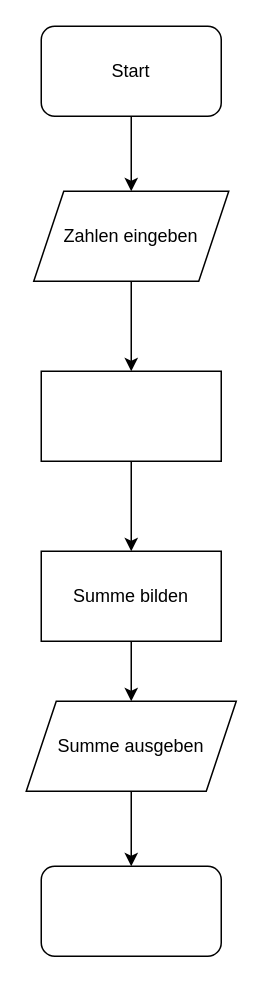
Image size: 263x983. Some labels were removed from this diagram. The centre of each missing label's shape, as x and y in pixels:
"Stop" belongs at pixel 130 910.
"Ziffern in Zahlen konvertieren (Typumwandlung)" belongs at pixel 130 415.
